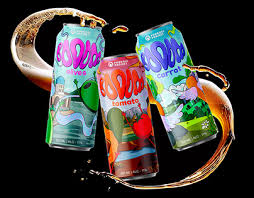can: (45, 20, 216, 178)
